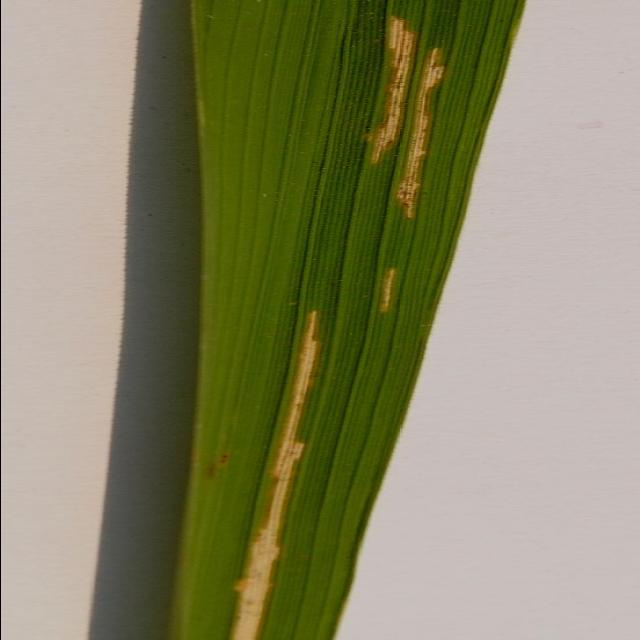Bacterial_Leaf_Blight: (330, 8, 448, 234), (268, 307, 332, 640)
